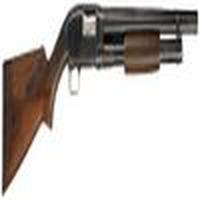gun: (3, 2, 200, 193)
